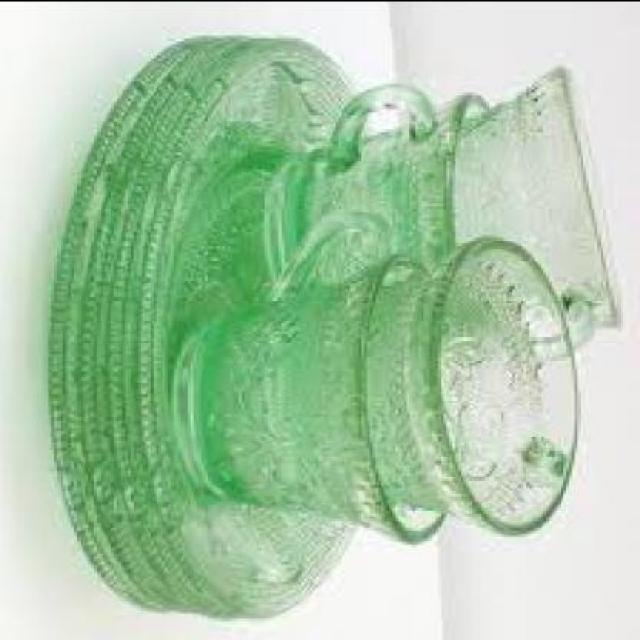GLASS: (48, 37, 362, 620), (176, 214, 453, 546), (355, 236, 580, 535), (273, 85, 498, 304), (455, 68, 623, 347)
